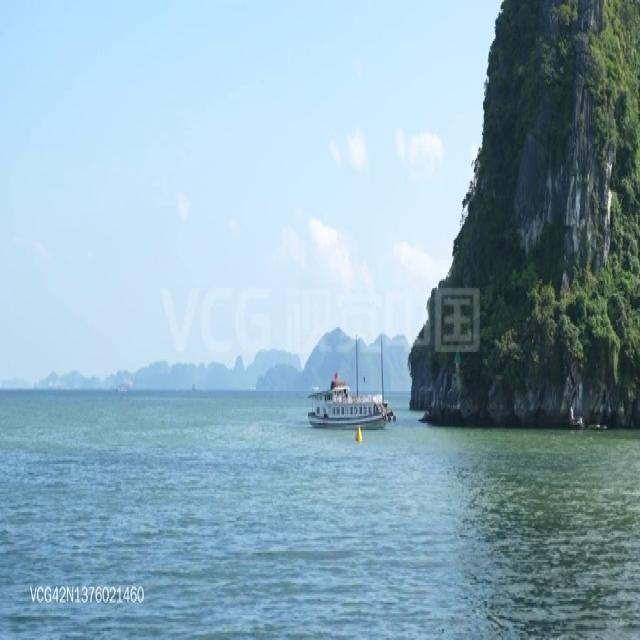passenger ship: (304, 364, 391, 428)
